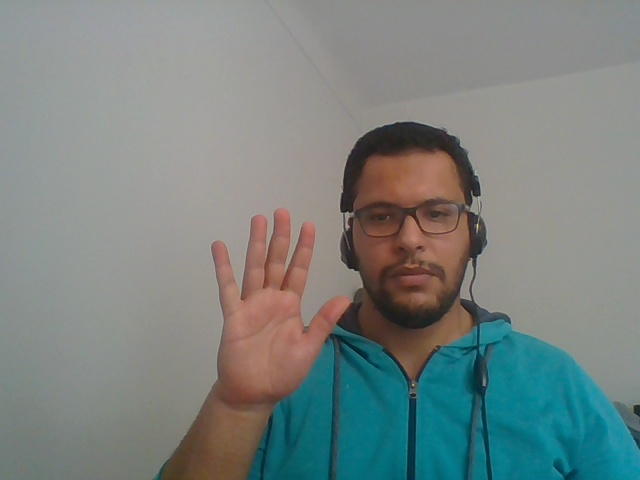hello: (192, 204, 353, 433)
